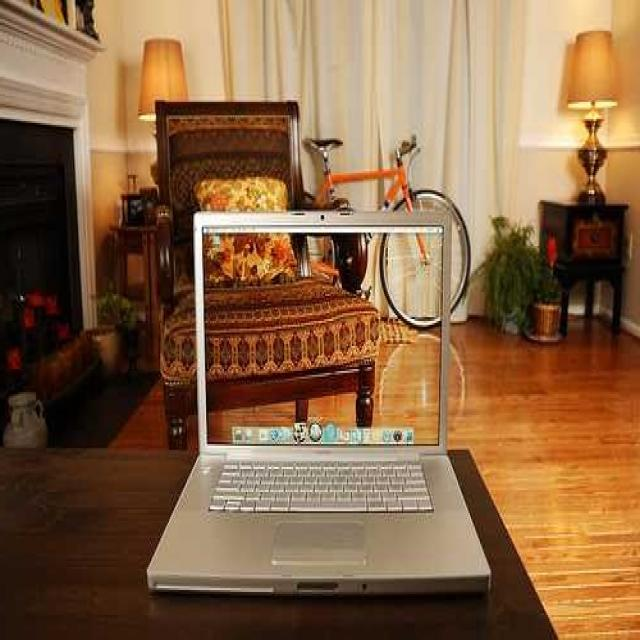laptop: (150, 215, 470, 628)
